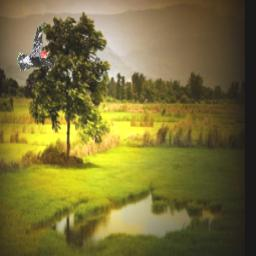Woodpecker: (17, 23, 58, 72)
